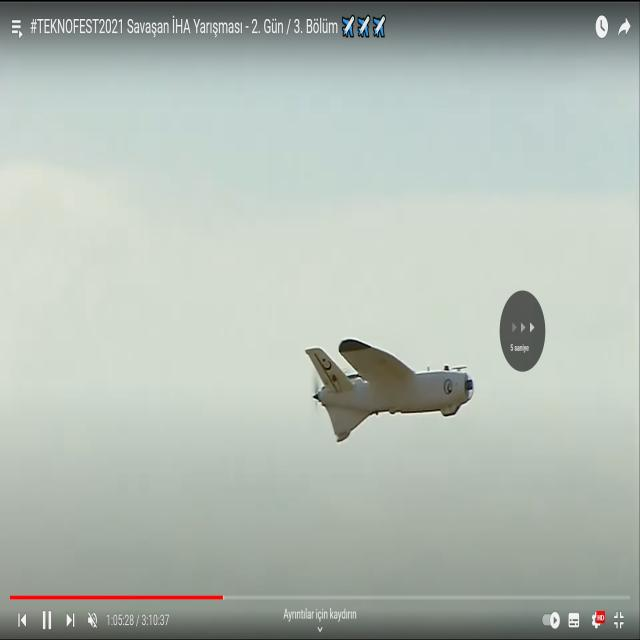iha: (299, 365, 471, 406)
